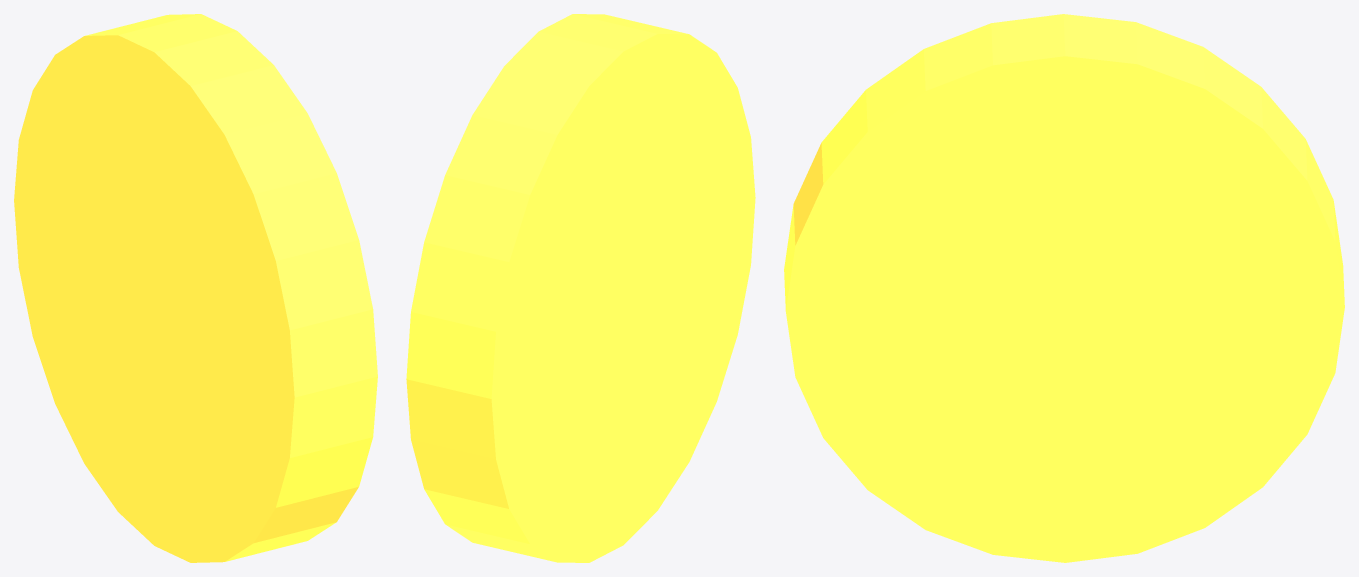
File: coin_finalprize_lev5.glb
3 renders of one model, left to right at view 1: azimuth 30°, elevation 25°; view 2: azimuth 150°, elevation 25°; view 3: azimuth 270°, elevation 25°, orthographic. The views are drawn at different scales.
Parts seen in each view (by area): view 1: coin_finalprize_lev5; view 2: coin_finalprize_lev5; view 3: coin_finalprize_lev5.
Boxes of the visible parts, <box> form: coin_finalprize_lev5: <box>14,14,377,562</box>; coin_finalprize_lev5: <box>406,14,755,562</box>; coin_finalprize_lev5: <box>784,14,1344,562</box>.
Bounding box in the file's own units: 0.1099 × 0.56 × 0.5617.
